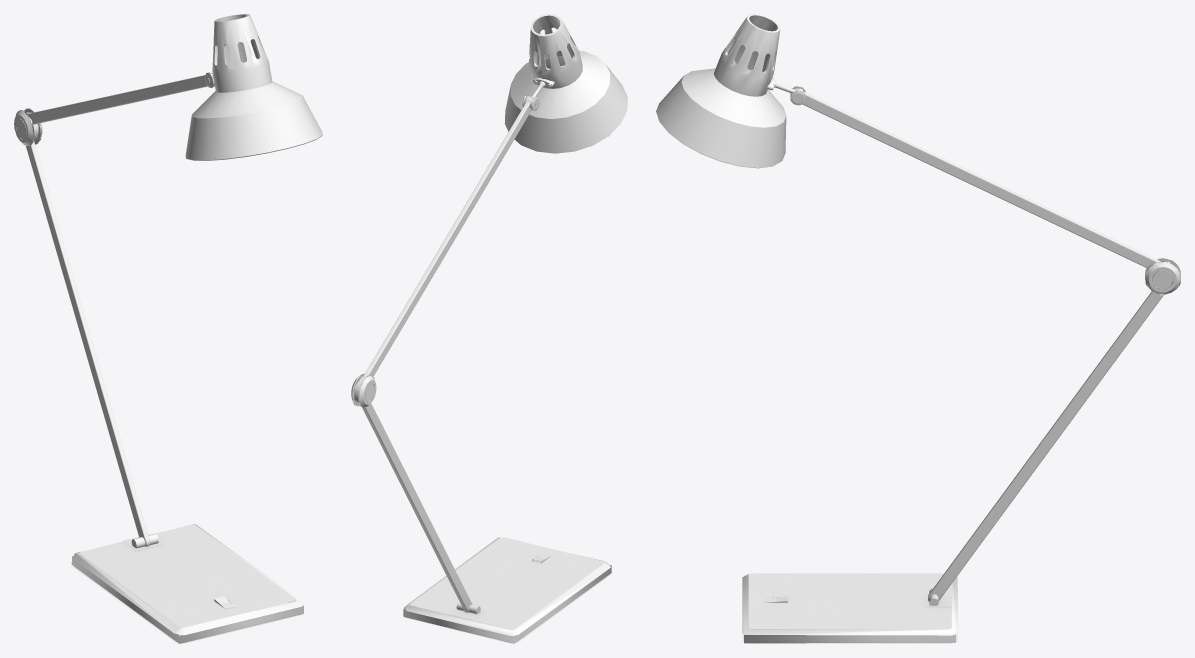
The model's file is object-lamp.glb.
The picture shows the model from 3 angles, left to right: view 1: azimuth 30°, elevation 25°; view 2: azimuth 150°, elevation 25°; view 3: azimuth 270°, elevation 25°; orthographic projection. The views are drawn at different scales.
Parts seen in each view (by area): view 1: Clamp; view 2: Clamp; view 3: Clamp.
Part boxes in pixels (<box>): Clamp: <box>14,14,322,643</box>; Clamp: <box>351,14,627,643</box>; Clamp: <box>656,14,1180,643</box>.
Bounding box in the file's own units: 0.1634 × 0.7395 × 0.5906.
1 material, 1 textured.
